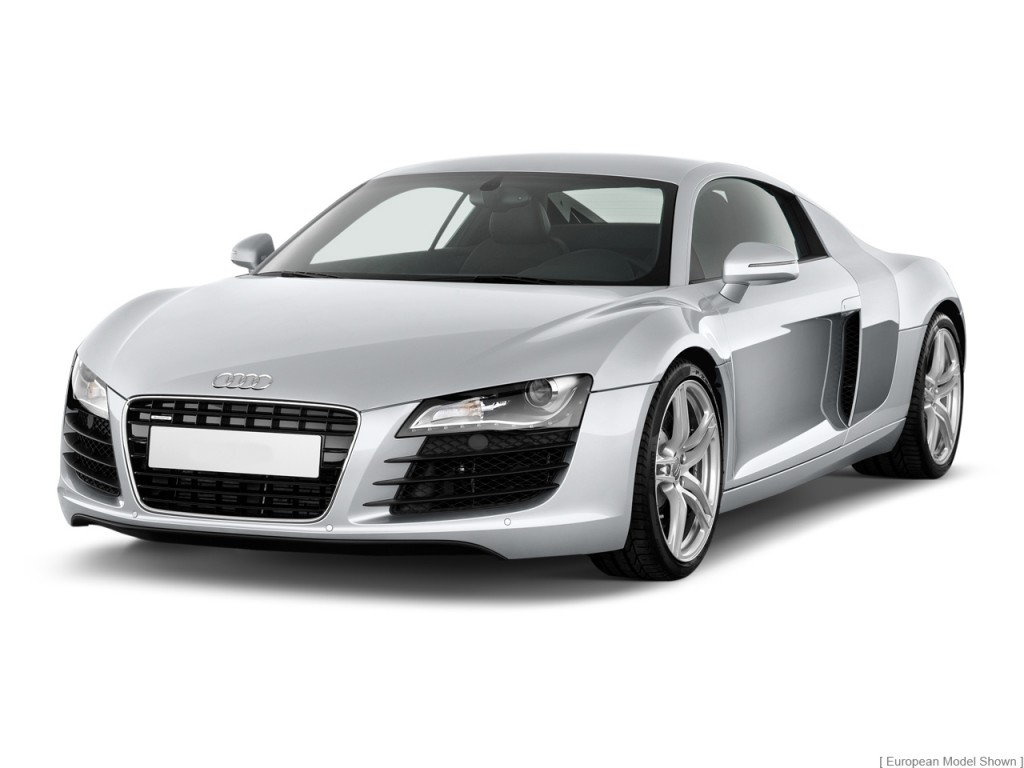audi: (56, 149, 969, 595)
